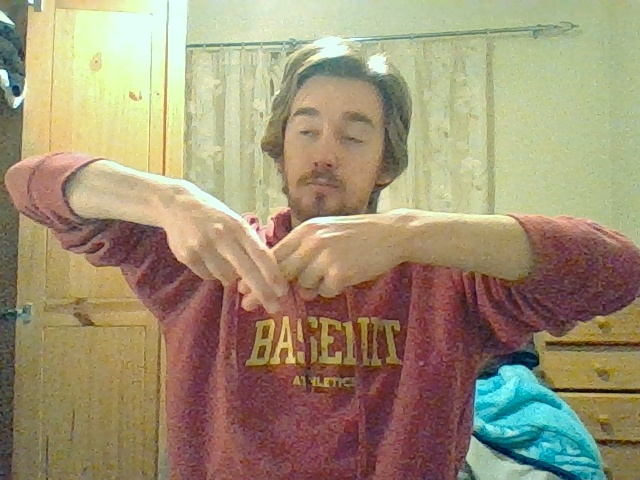father: (224, 207, 339, 314)
